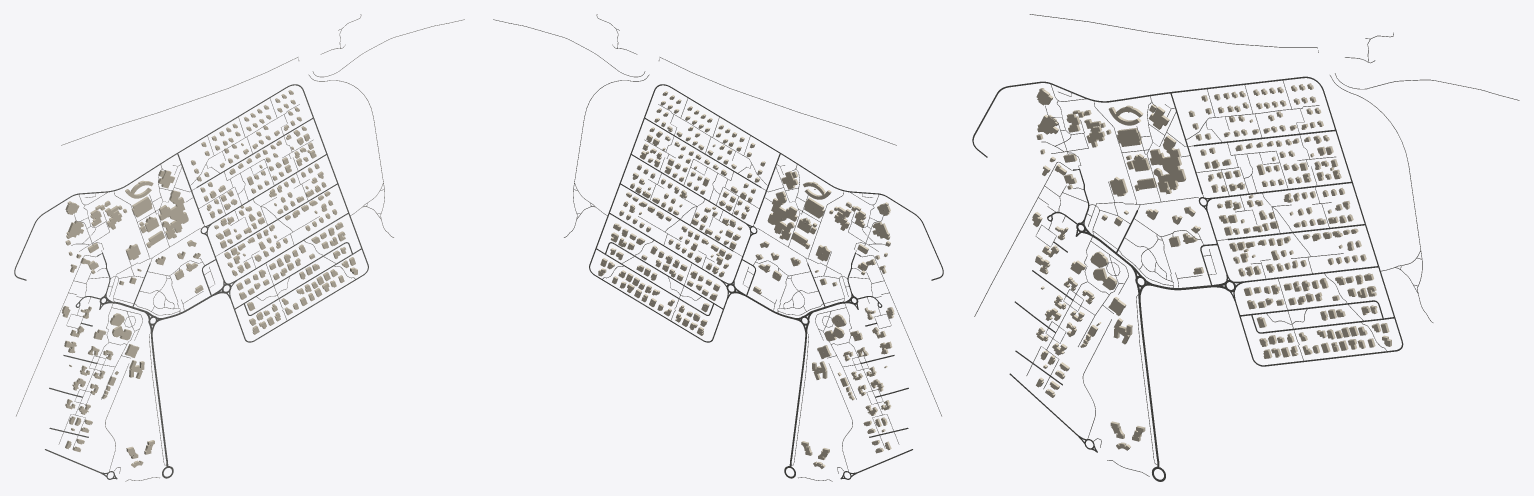
Rendered from historic-palestine-16_34_3579_3284.glb.
The picture shows the model from 3 angles, left to right: view 1: azimuth 30°, elevation 25°; view 2: azimuth 150°, elevation 25°; view 3: azimuth 330°, elevation 25°; orthographic projection. The views are drawn at different scales.
Parts seen in each view (by area): view 1: Road .170, Building_.264; view 2: Road .170, Building_.264; view 3: Road .170, Building_.264.
Part boxes in pixels (x1,y1,x2,y2): Road .170: [14, 84, 368, 342]; Building_.264: [159, 190, 188, 239]; Road .170: [589, 84, 943, 342]; Building_.264: [767, 191, 797, 240]; Road .170: [972, 76, 1403, 366]; Building_.264: [1150, 135, 1186, 194].
Bounding box in the file's own units: 1295 × 1145 × 8.7.
